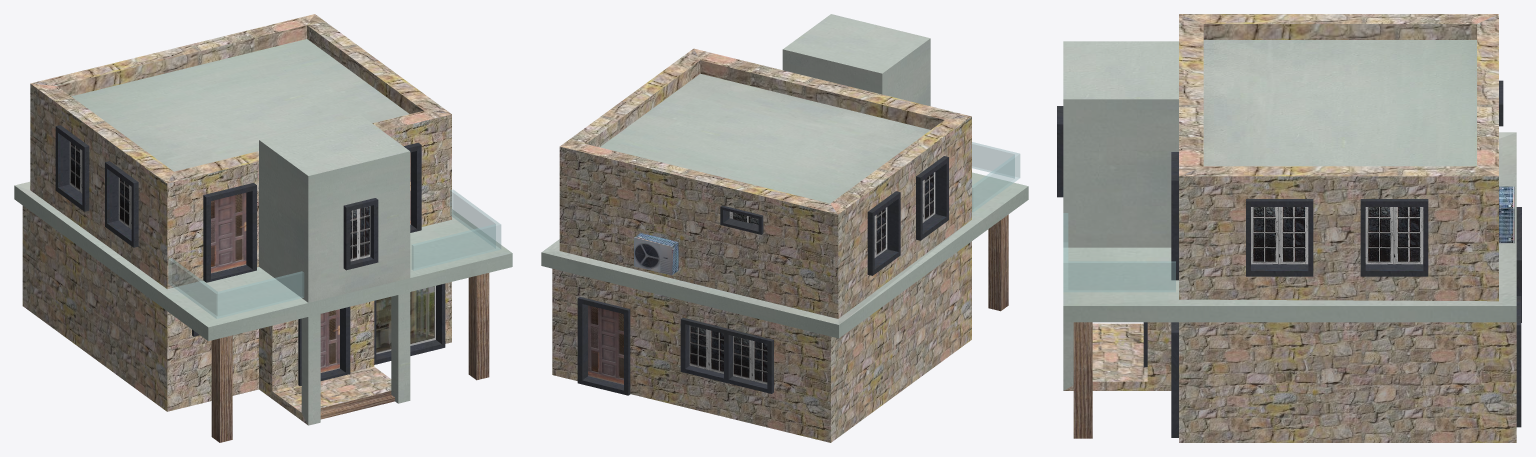
Rendered from h_house5.glb.
3 views of the same model, side by side, from view 1: azimuth 30°, elevation 25°; view 2: azimuth 150°, elevation 25°; view 3: azimuth 270°, elevation 25° (orthographic). The views are drawn at different scales.
Visible parts, largest first — view 1: house5, door11, door_wide2, window27, door9, window_vertical7, window26, door12; view 2: house5, window_wide2, door10, window27, window26, ac3, window_bathroom5; view 3: house5, window29, window28, door12, ac3, door_wide2, door10, window_vertical7, window_wide2.
Part boxes in pixels (x1=…): house5: x1=14, y1=14, x2=512, y2=442; door11: x1=203, y1=183, x2=256, y2=282; door_wide2: x1=374, y1=283, x2=445, y2=364; window27: x1=55, y1=125, x2=89, y2=211; door9: x1=298, y1=306, x2=350, y2=386; window_vertical7: x1=343, y1=198, x2=378, y2=270; window26: x1=105, y1=161, x2=138, y2=247; door12: x1=404, y1=142, x2=421, y2=232; house5: x1=541, y1=14, x2=1028, y2=442; window_wide2: x1=680, y1=317, x2=773, y2=393; door10: x1=577, y1=297, x2=630, y2=395; window27: x1=867, y1=191, x2=900, y2=275; window26: x1=916, y1=156, x2=948, y2=240; ac3: x1=634, y1=232, x2=678, y2=275; window_bathroom5: x1=720, y1=205, x2=763, y2=234; house5: x1=1063, y1=14, x2=1516, y2=442; window29: x1=1360, y1=199, x2=1428, y2=276; window28: x1=1246, y1=199, x2=1313, y2=276; door12: x1=1171, y1=152, x2=1178, y2=280; ac3: x1=1499, y1=186, x2=1514, y2=243; door_wide2: x1=1171, y1=322, x2=1178, y2=437; door10: x1=1516, y1=296, x2=1521, y2=427; window_vertical7: x1=1057, y1=106, x2=1063, y2=197; window_wide2: x1=1516, y1=207, x2=1521, y2=322.
Bounding box in the file's own units: 2.13 × 1.68 × 2.42.
Materials: 2 (1 with a texture image).
